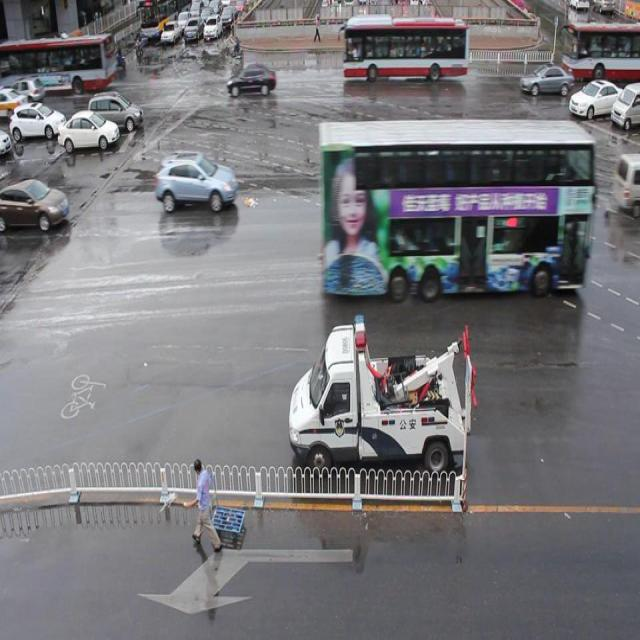car: (156, 152, 238, 212), (524, 157, 588, 209), (567, 79, 626, 118), (518, 62, 574, 98), (227, 64, 276, 95)
truck: (612, 150, 640, 210)
van: (318, 118, 592, 291), (343, 15, 468, 83)
